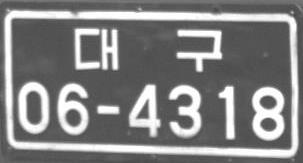0: (17, 79, 50, 134)
1: (212, 85, 247, 139)
3: (168, 84, 202, 138)
4: (129, 83, 161, 137)
6: (56, 82, 89, 135)
8: (251, 84, 285, 141)
대구_D: (73, 27, 222, 70)
